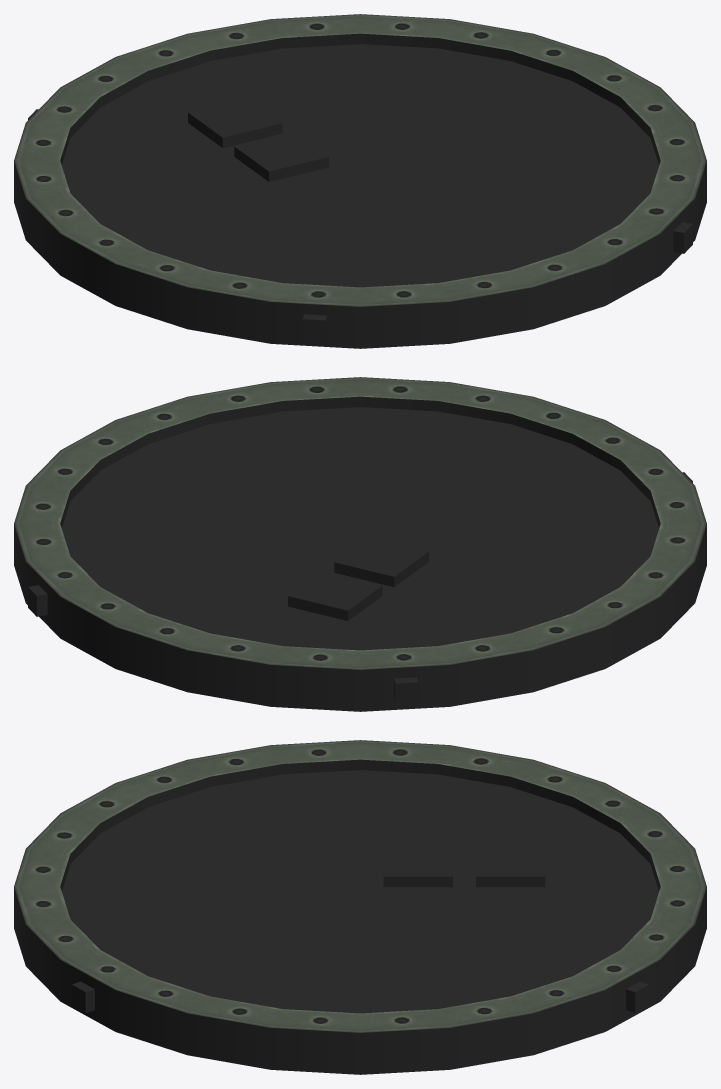
File: sargas_control_s1p5_1.obj
3 views of the same model, one above another, from view 1: azimuth 30°, elevation 25°; view 2: azimuth 150°, elevation 25°; view 3: azimuth 270°, elevation 25° (orthographic).
Visible parts, largest first — view 1: sargas_control_s1p5_1; view 2: sargas_control_s1p5_1; view 3: sargas_control_s1p5_1.
Boxes of the visible parts, x1=… form: sargas_control_s1p5_1: x1=14, y1=14, x2=706, y2=348; sargas_control_s1p5_1: x1=14, y1=377, x2=706, y2=711; sargas_control_s1p5_1: x1=14, y1=740, x2=706, y2=1074.
Bounding box in the file's own units: 1.88 × 0.125 × 1.88.
